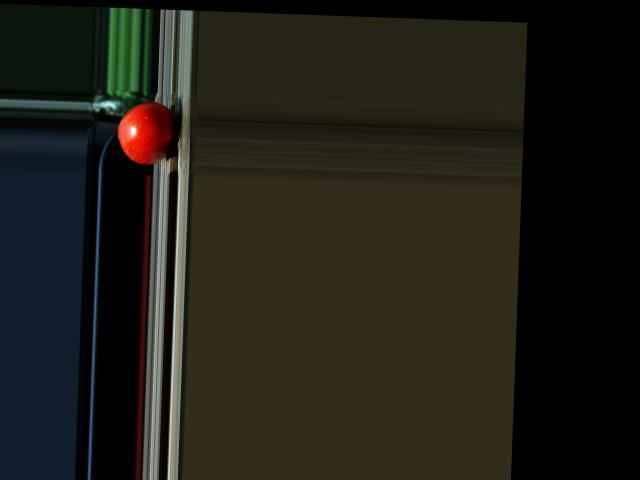tomato: (116, 100, 175, 165)
